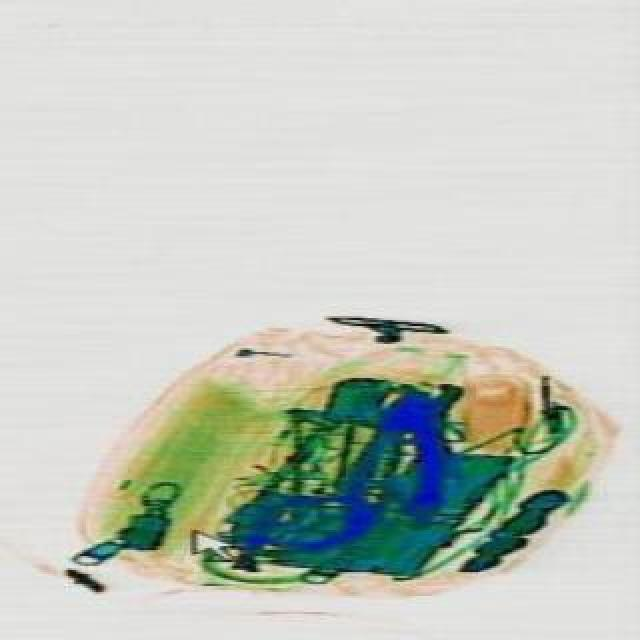wrench: (330, 380, 456, 524)
